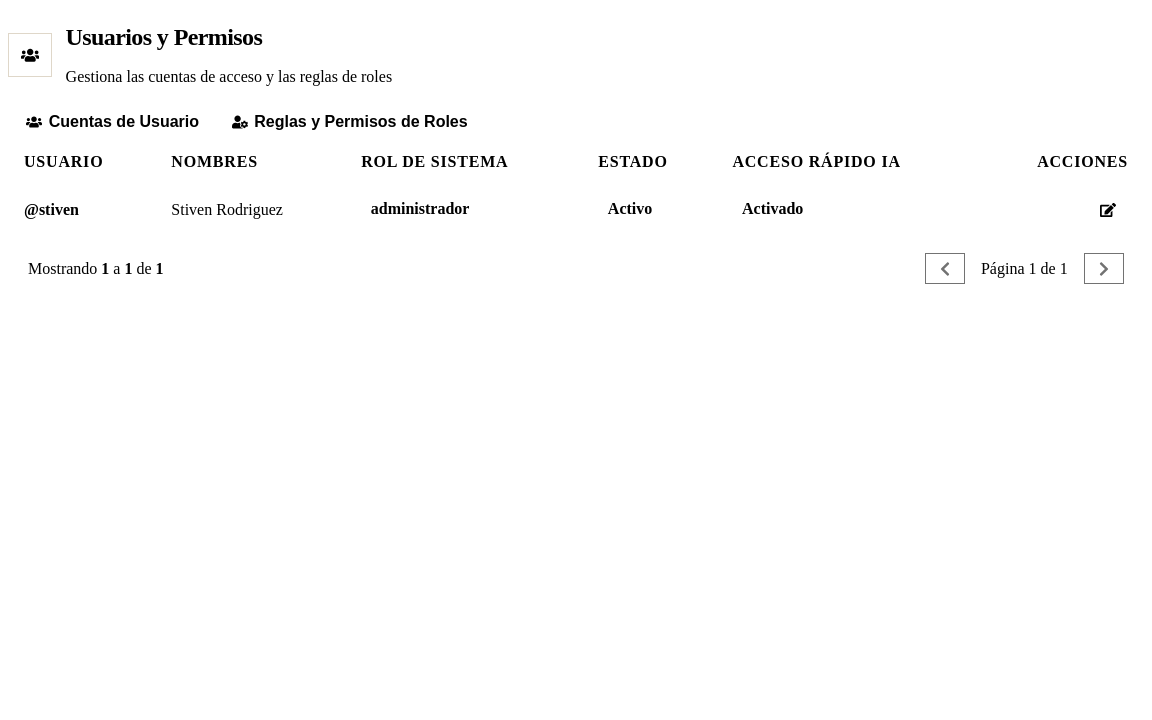
Test: Configuración individual del acceso rápido IA › un administrador guarda la preferencia de su cuenta y actualiza su sesión
Click the button named "Editar Usuario". click: click(1108, 210)
box: [1088,194,1128,225]
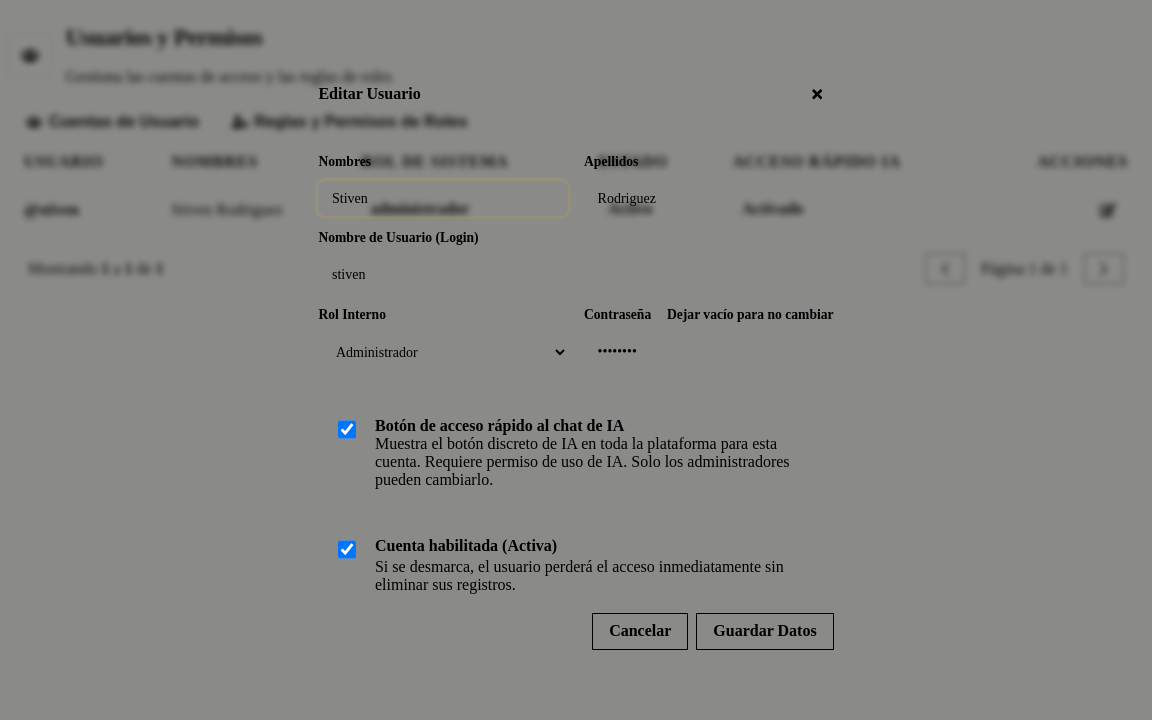
Now the checkbox labelled "Botón de acceso rápido al chat de IA" is checked
Click the checkbox labelled "Botón de acceso rápido al chat de IA". click: click(347, 430)
box: [338,420,356,439]
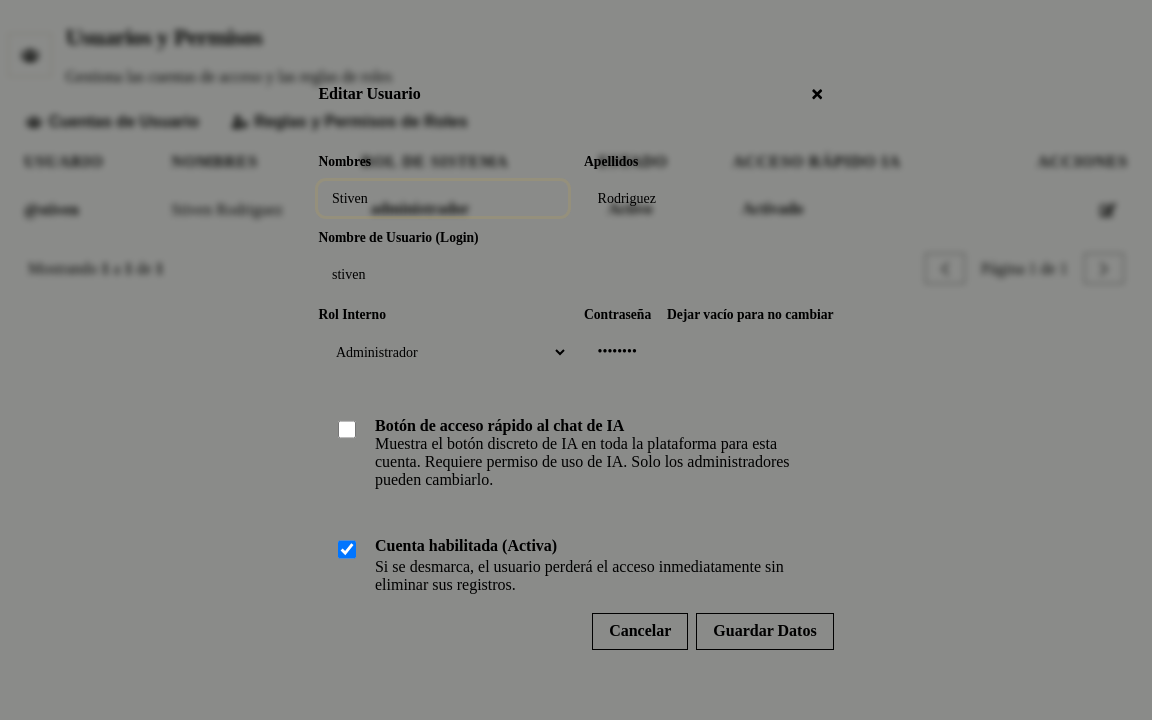
Click the button "Guardar Datos". click: click(765, 631)
box: [696,613,834,650]
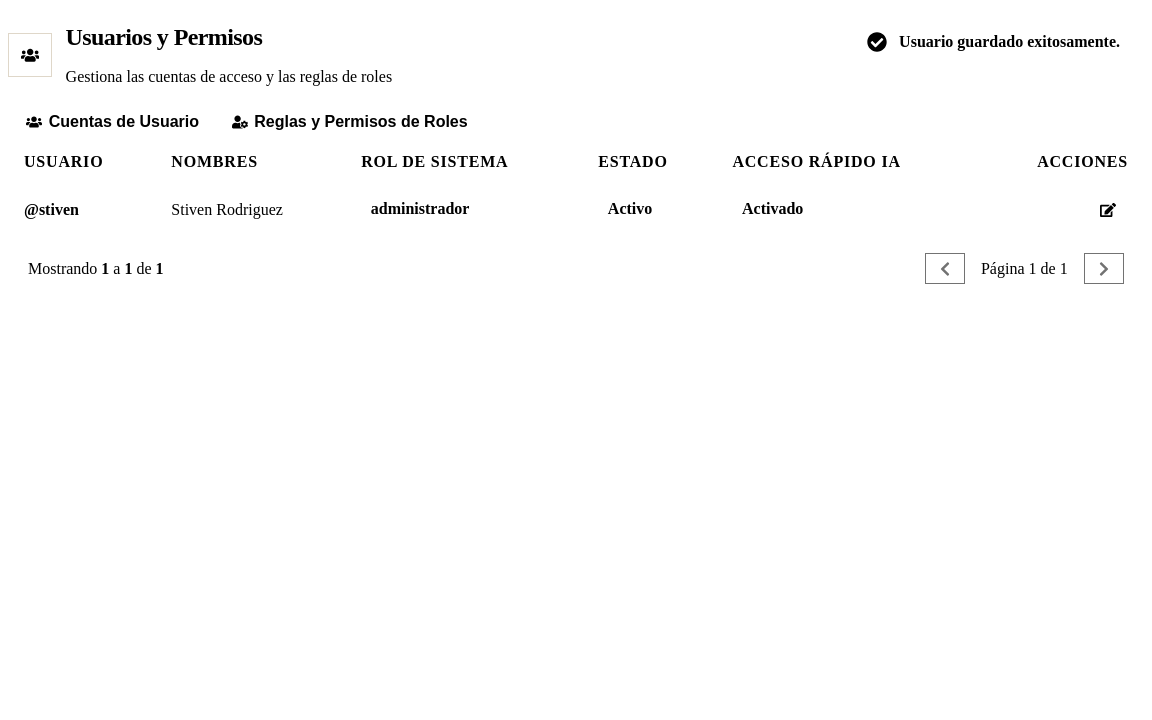
Now the text "Usuario guardado exitosamente." is shown, box [899,33,1120,51]
